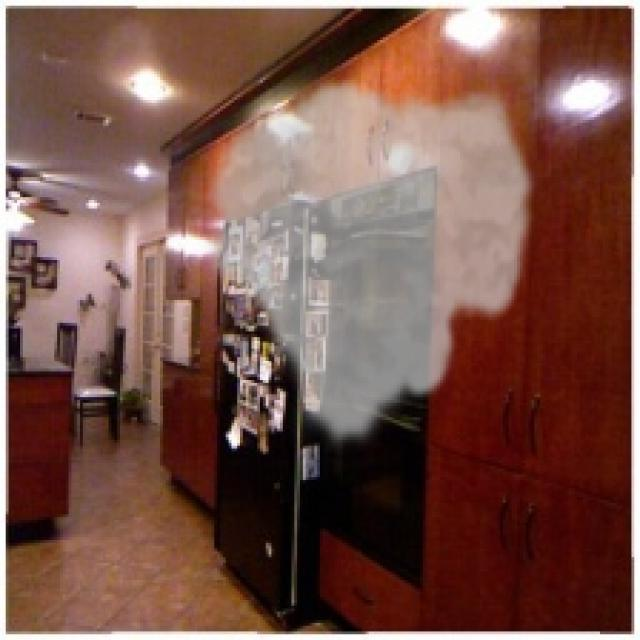Smoke: (197, 74, 540, 452)
